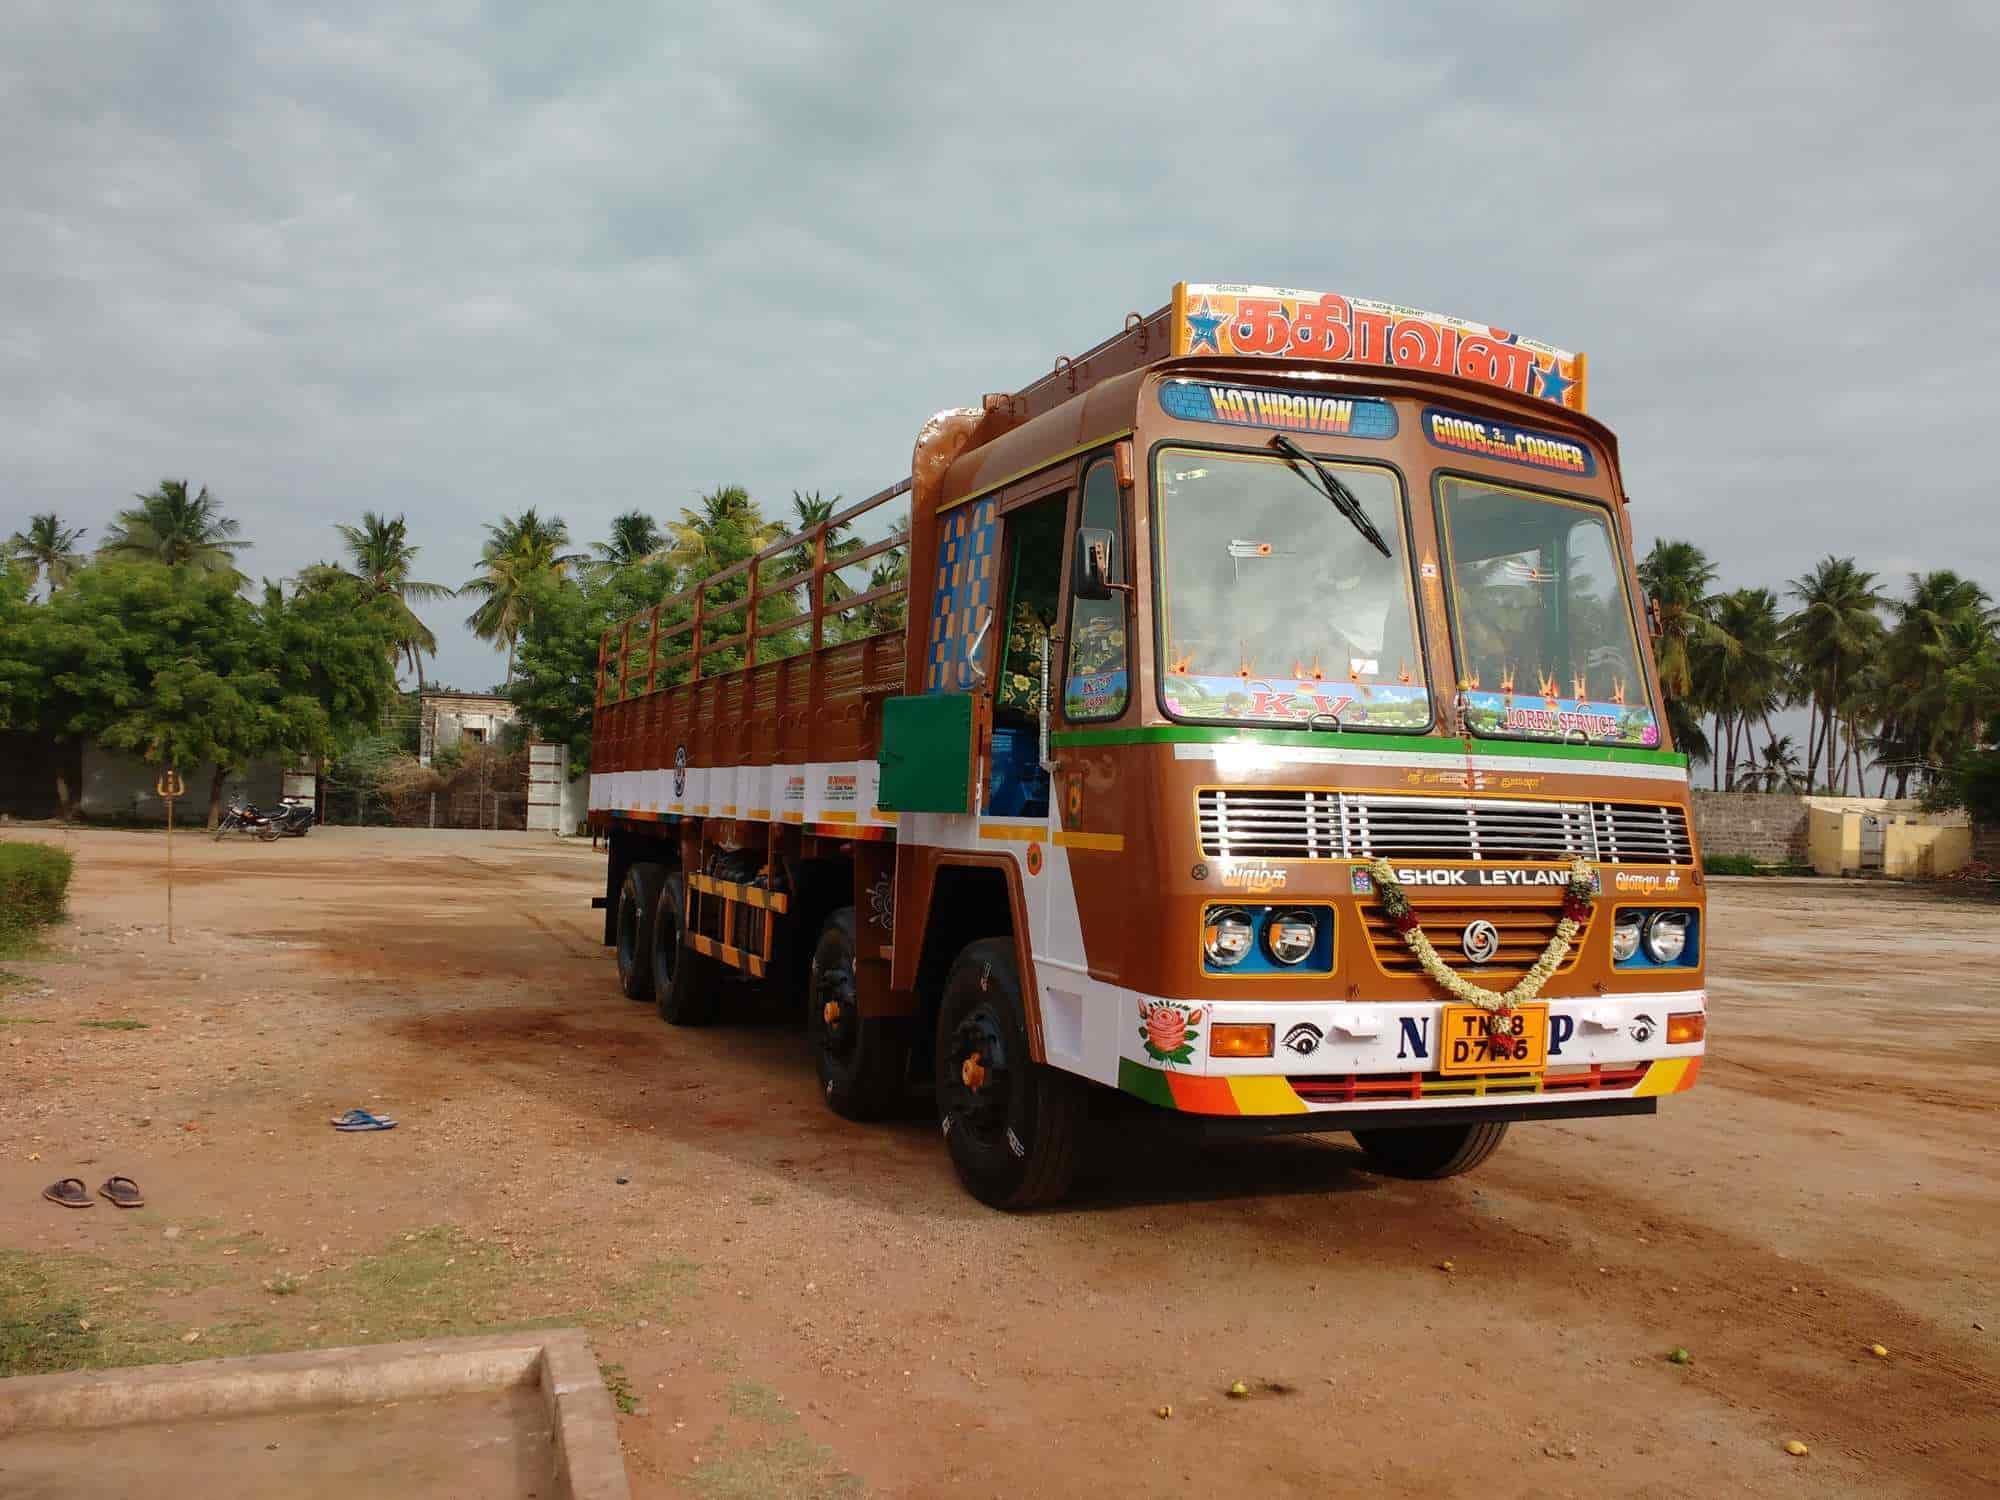motorbike: (213, 793, 282, 841)
truck: (587, 280, 1712, 1213)
